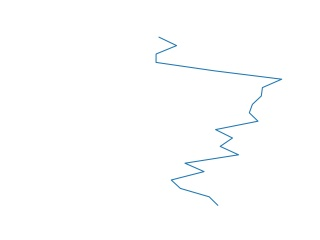floodPlain: (154, 35, 283, 208)
